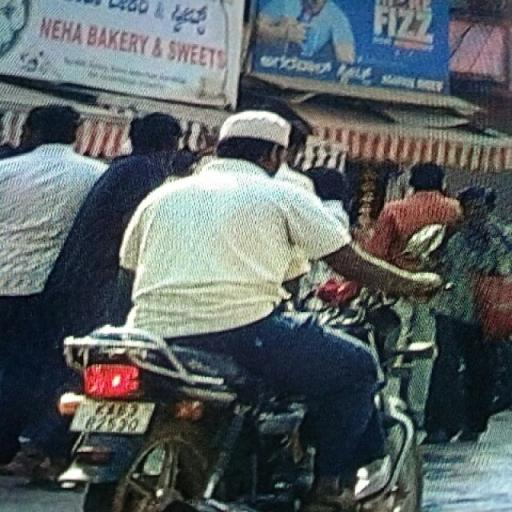bike: (47, 105, 434, 512)
numberplate: (68, 394, 153, 440)
withouthelmet: (222, 110, 290, 164)
